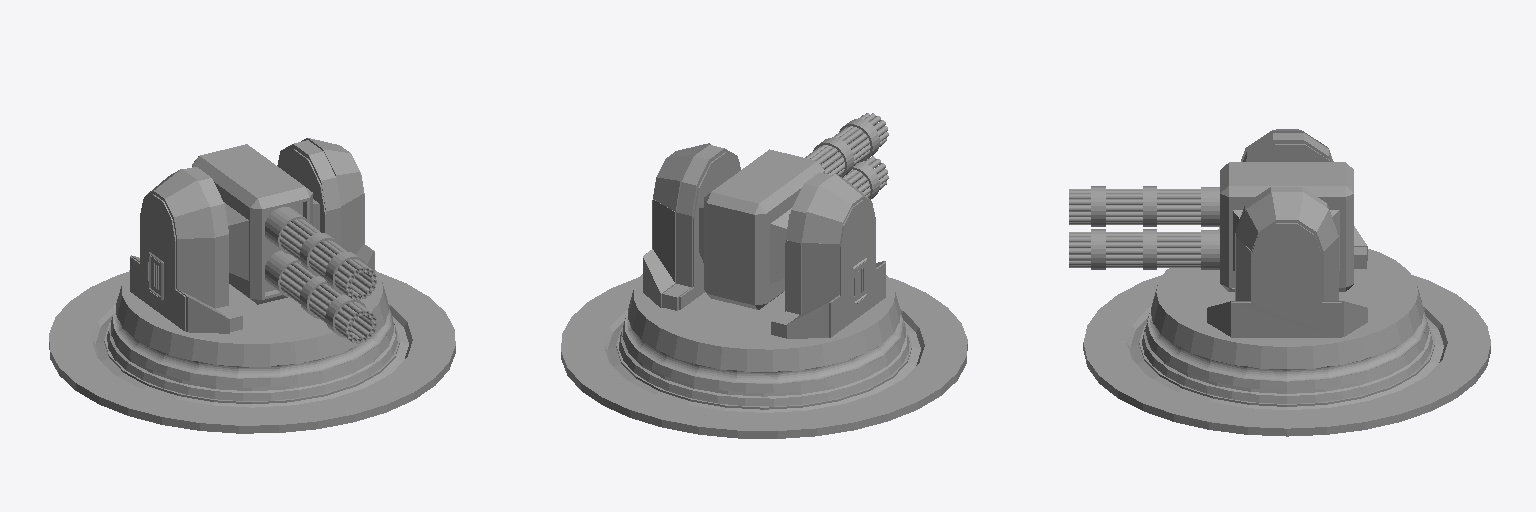
The model's file is Turret.obj.
3 views of the same model, side by side, from view 1: azimuth 30°, elevation 25°; view 2: azimuth 150°, elevation 25°; view 3: azimuth 270°, elevation 25° (orthographic).
Parts seen in each view (by area): view 1: Base, Stand, Cannon_Body, Top_Left_Support, Outer_Plate001, Top_Right_Support, Left_Support, Right_Support, Connection_Support_Cannon001, Inner_Plate, Gun_Ring_Beginning001, Gun_Ring_Beginning; view 2: Stand, Base, Cannon_Body, Top_Left_Support, Outer_Plate001, Top_Right_Support, Right_Support, Left_Support, Inner_Plate, Connection_Support_Cannon001; view 3: Stand, Base, Outer_Plate, Cannon_Body, Top_Right_Support, Inner_Plate001, Left_Support, Gun_Ring_Beginning001, Gun_Ring_Beginning, Right_Support, Barrel028, Barrel029 (+7 smaller).
Boxes of the visible parts, <box> form: Base: <box>49,272,455,433</box>; Stand: <box>107,270,397,400</box>; Cannon_Body: <box>192,144,312,304</box>; Top_Left_Support: <box>131,169,229,333</box>; Outer_Plate001: <box>130,194,185,331</box>; Top_Right_Support: <box>301,138,373,289</box>; Left_Support: <box>183,167,242,331</box>; Right_Support: <box>277,140,340,244</box>; Connection_Support_Cannon001: <box>224,202,248,280</box>; Inner_Plate: <box>278,149,325,232</box>; Gun_Ring_Beginning001: <box>265,207,311,254</box>; Gun_Ring_Beginning: <box>265,250,300,297</box>; Stand: <box>619,274,909,406</box>; Base: <box>561,277,967,438</box>; Cannon_Body: <box>704,149,824,309</box>; Top_Left_Support: <box>787,174,885,338</box>; Outer_Plate001: <box>829,200,885,337</box>; Top_Right_Support: <box>643,143,710,307</box>; Right_Support: <box>662,145,737,310</box>; Left_Support: <box>772,172,831,338</box>; Inner_Plate: <box>679,152,740,309</box>; Connection_Support_Cannon001: <box>770,208,791,283</box>; Stand: <box>1142,249,1432,403</box>; Base: <box>1083,275,1490,436</box>; Outer_Plate: <box>1231,223,1341,337</box>; Cannon_Body: <box>1220,162,1353,291</box>; Top_Right_Support: <box>1207,192,1367,336</box>; Inner_Plate001: <box>1250,144,1366,268</box>; Left_Support: <box>1243,133,1366,255</box>; Gun_Ring_Beginning001: <box>1201,187,1219,226</box>; Gun_Ring_Beginning: <box>1201,230,1219,269</box>; Right_Support: <box>1208,187,1364,306</box>; Barrel028: <box>1069,206,1200,211</box>; Barrel029: <box>1069,199,1200,204</box>.
Bounding box in the file's own units: 140 × 71.51 × 145.